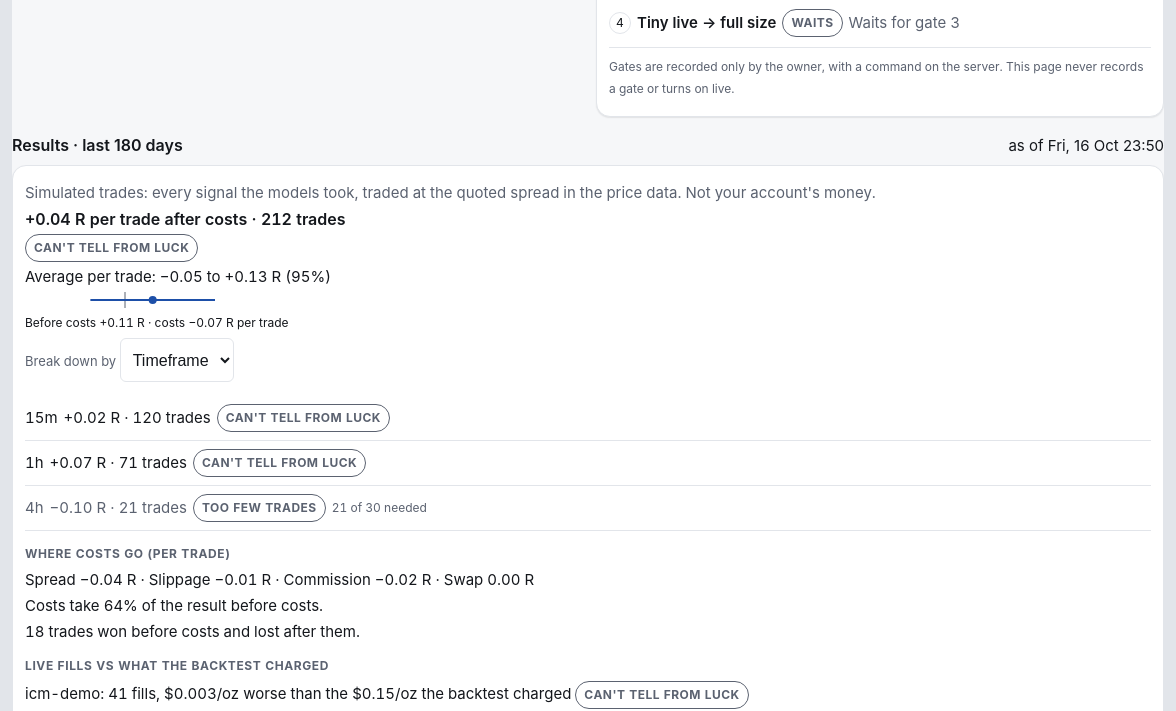
Test case: Progress › shows results with the verdict in words, fixed row order and no range on by-construction exit rows
(page scrolled)
Expected: the element with test id "results" shows "Can't tell from luck", left=34, top=240, right=189, bottom=255
Expected: the element with test id "results" shows "Simulated trades", left=25, top=183, right=876, bottom=202
Select "Exit" in the dropdown labelled "Break down by" at (177, 360), box left=120, top=338, right=234, bottom=382
(page scrolled)
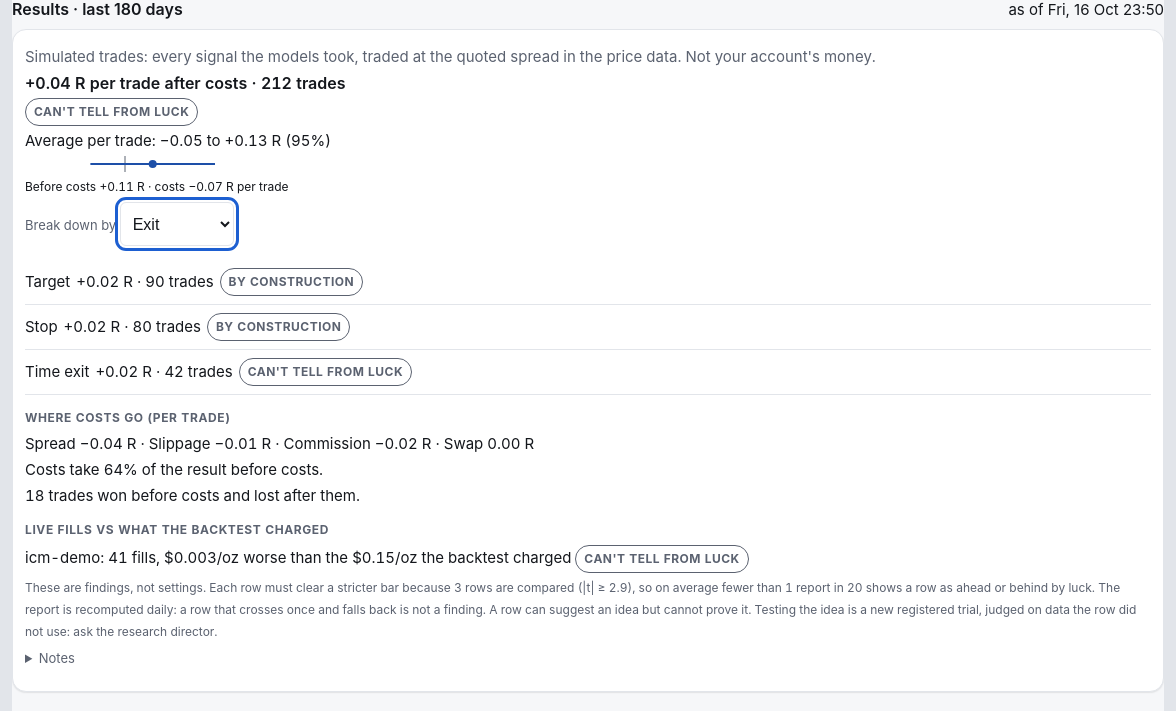
Expected: the list item with test id "result-row" does not show "Average per trade", left=25, top=260, right=1151, bottom=305
Result: the list item with test id "result-row" shows "By construction" at left=229, top=274, right=354, bottom=289
